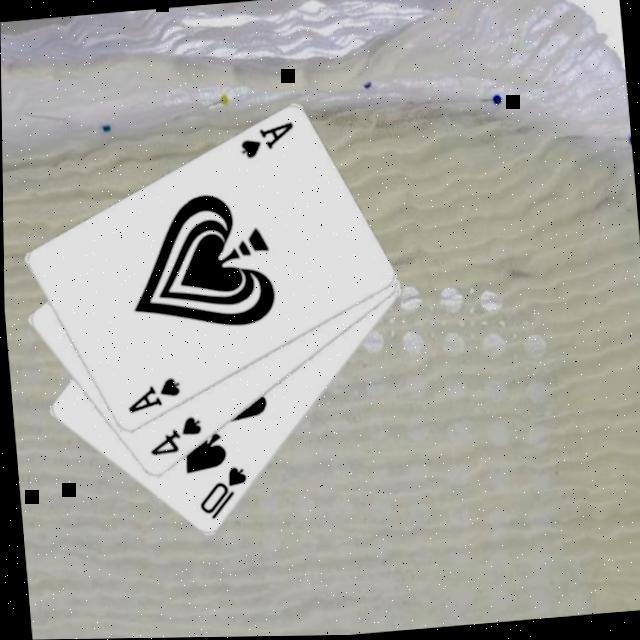10S: (192, 462, 253, 525)
4S: (143, 412, 207, 460)
AS: (234, 118, 300, 163), (121, 373, 184, 416)
